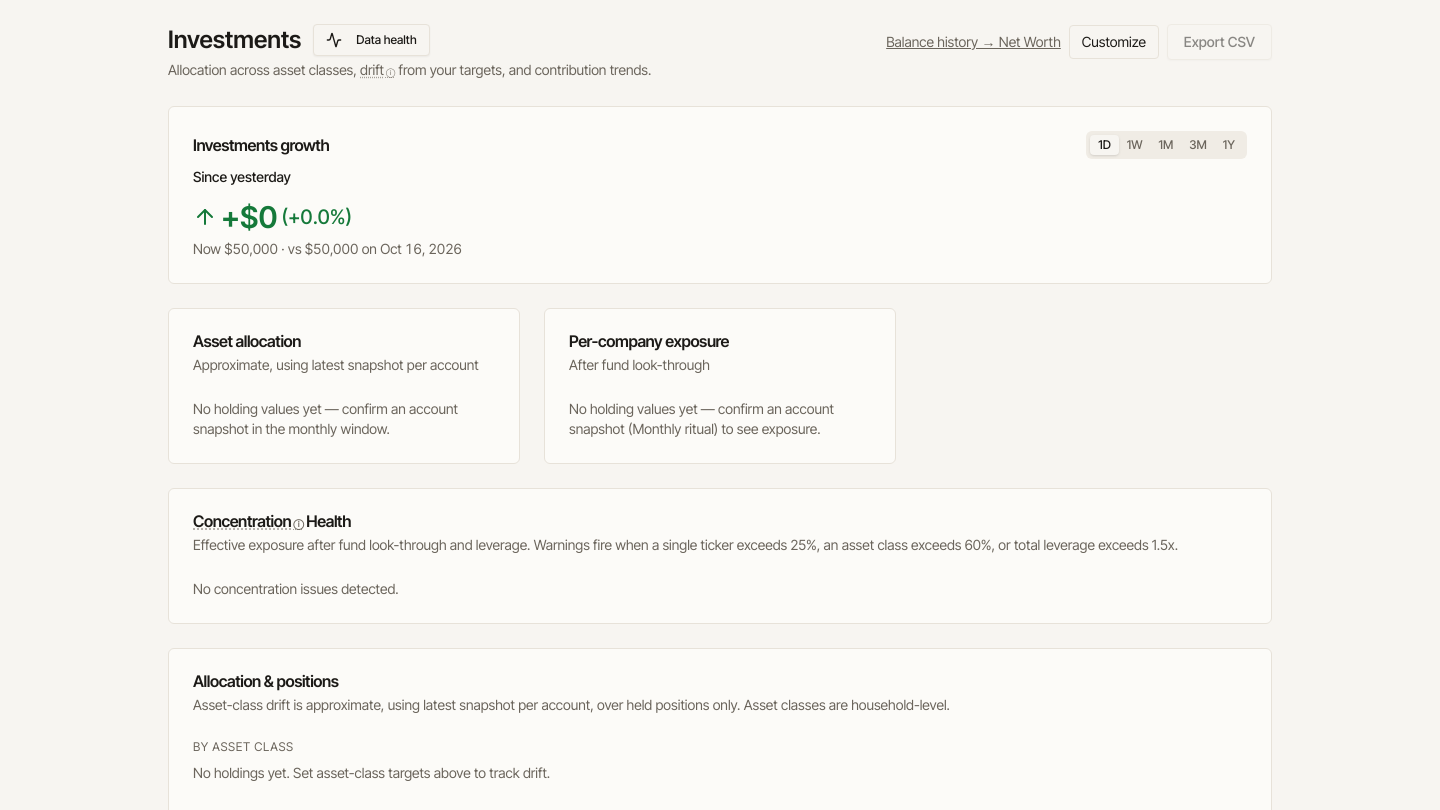
it: Investments cards edit mode › re-opens edit mode after hiding a card and shows it with Show + crossed-out label
Expected: the text "Investments growth" is shown, [193, 137, 329, 153]
Expected: the text "Sector exposure" is not shown
Click the button "Customize" at (1114, 42), box [1069, 25, 1159, 59]
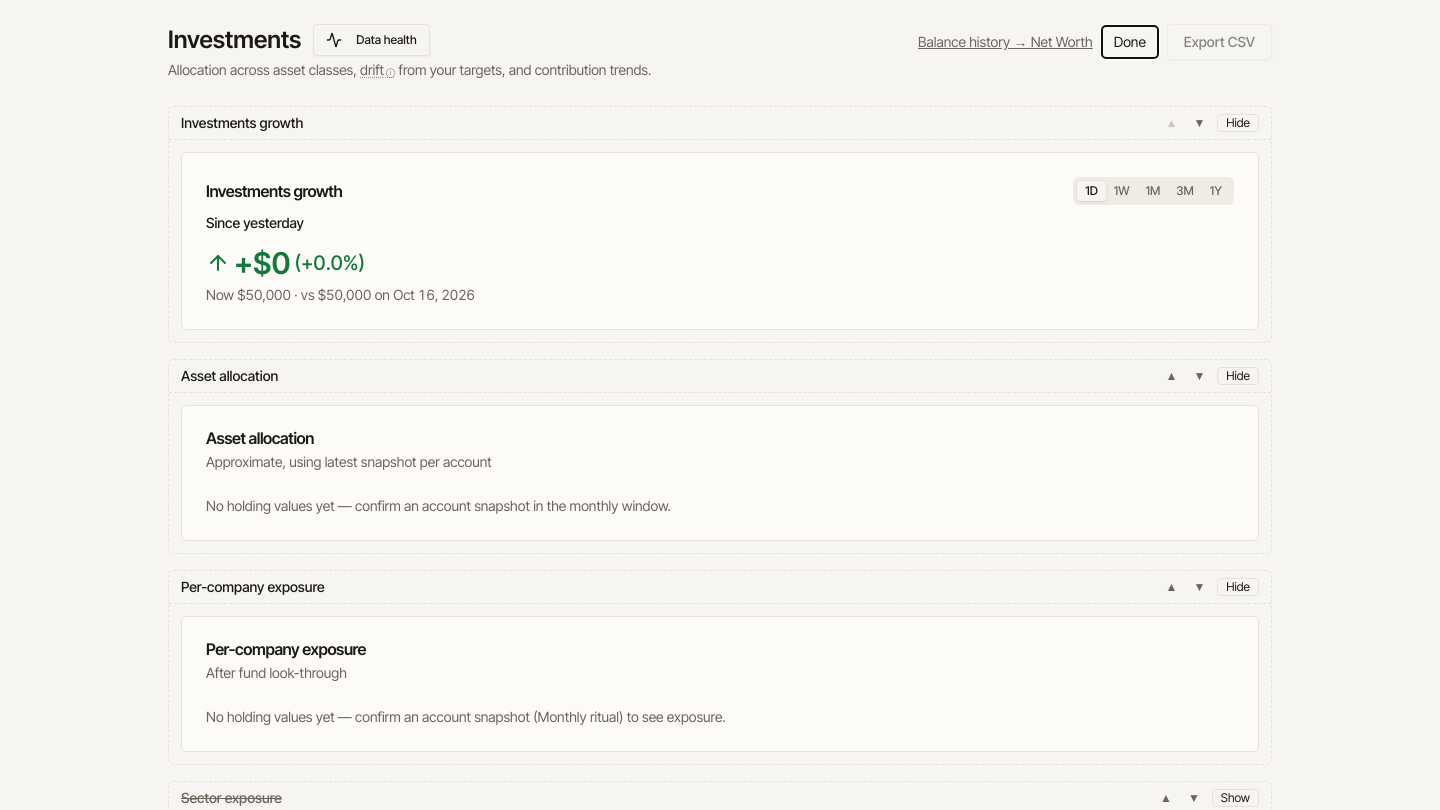
Expected: the button with aria-label "show sector exposure" is shown, [1212, 789, 1259, 807]
Expected: the text "Sector exposure" is shown, [181, 789, 282, 806]
